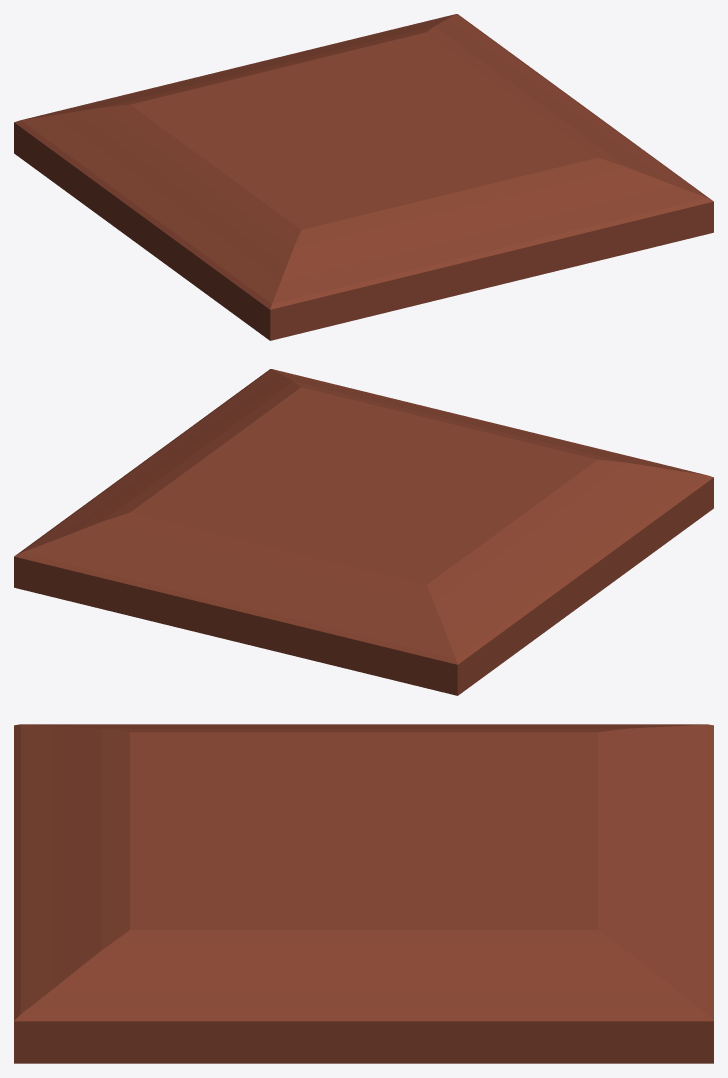
File: goal_tile_triggered.glb
3 renders of one model, top to bottom at view 1: azimuth 30°, elevation 25°; view 2: azimuth 150°, elevation 25°; view 3: azimuth 270°, elevation 25°, orthographic. The views are drawn at different scales.
Visible parts, largest first — view 1: goal_tile; view 2: goal_tile; view 3: goal_tile.
Part boxes in pixels (x1=…): goal_tile: x1=14, y1=14, x2=713, y2=340; goal_tile: x1=14, y1=369, x2=713, y2=695; goal_tile: x1=14, y1=724, x2=713, y2=1063.
Size of the model in its own units: 0.75 by 0.1 by 0.75.
